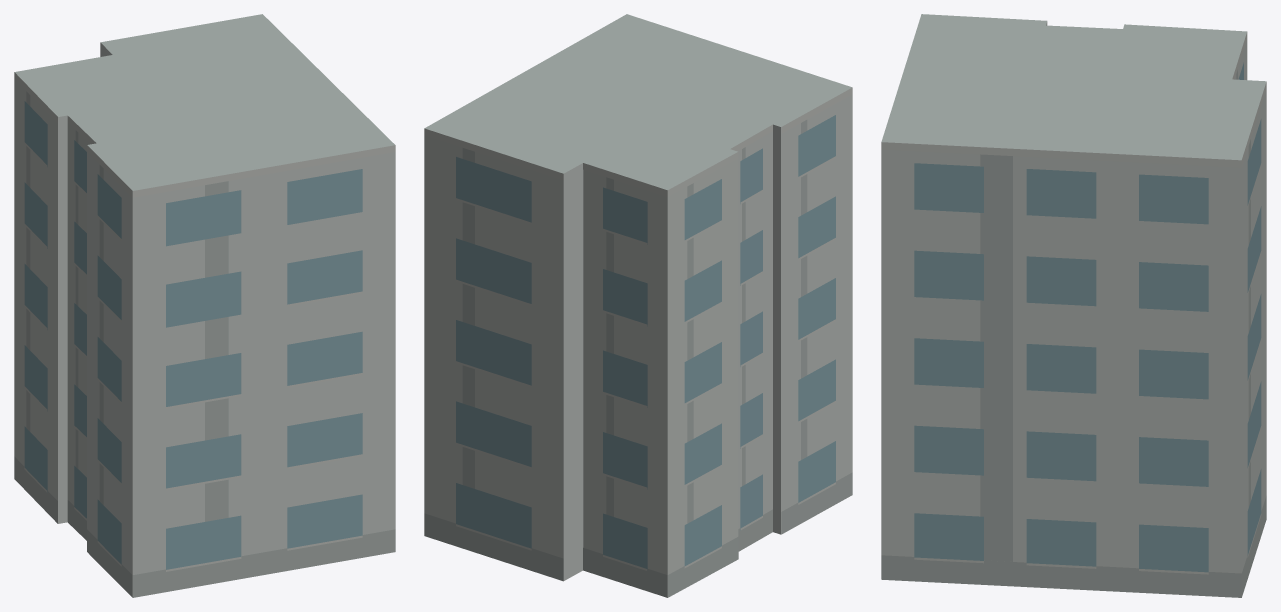
The model's file is survey-upis-32827043.glb.
3 views of the same model, side by side, from view 1: azimuth 30°, elevation 25°; view 2: azimuth 150°, elevation 25°; view 3: azimuth 270°, elevation 25° (orthographic). The views are drawn at different scales.
Parts seen in each view (by area): view 1: survey-upis-32827043.tmp; view 2: survey-upis-32827043.tmp; view 3: survey-upis-32827043.tmp.
Part boxes in pixels (x1,y1,x2,y2): survey-upis-32827043.tmp: (14, 14, 395, 597); survey-upis-32827043.tmp: (424, 14, 852, 597); survey-upis-32827043.tmp: (881, 14, 1266, 597).
Bounding box in the file's own units: 10.41 × 14.5 × 11.58.
